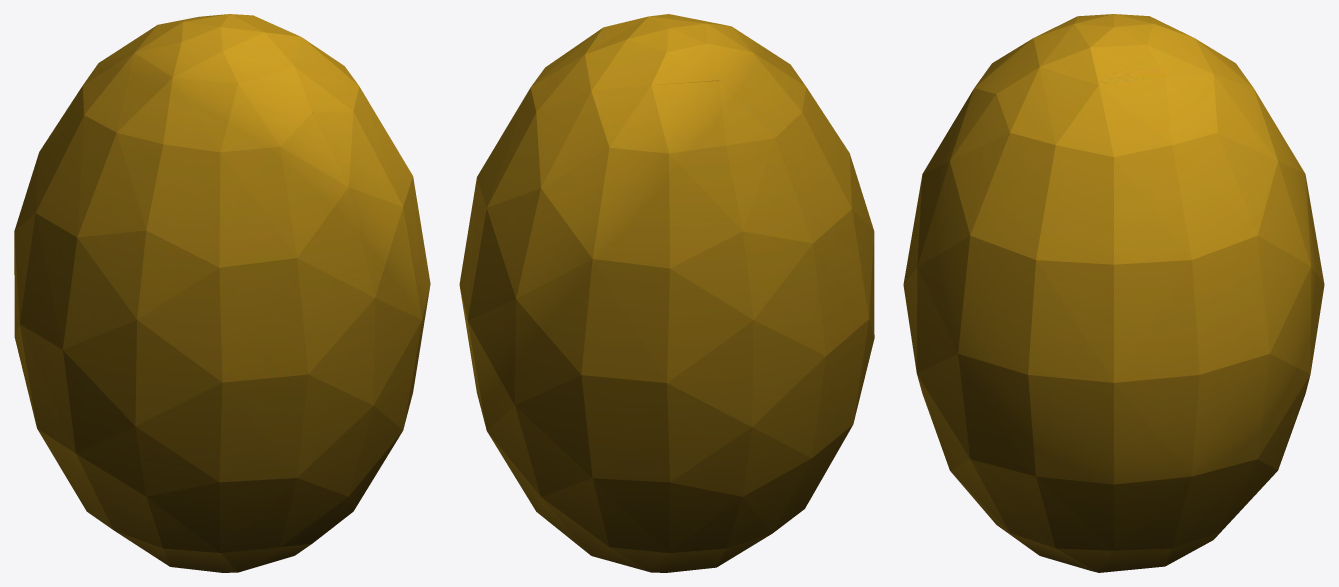
Rendered from golden-egg.obj.
3 views of the same model, side by side, from view 1: azimuth 30°, elevation 25°; view 2: azimuth 150°, elevation 25°; view 3: azimuth 270°, elevation 25° (orthographic).
Visible parts, largest first — view 1: Sphere; view 2: Sphere; view 3: Sphere.
Boxes of the visible parts, x1,y1,x2,y2 form: Sphere: (14, 14, 430, 572); Sphere: (459, 14, 874, 572); Sphere: (903, 14, 1324, 572).
Bounding box in the file's own units: 0.9952 × 1.4 × 1.
Materials: 1 (1 with a texture image).
